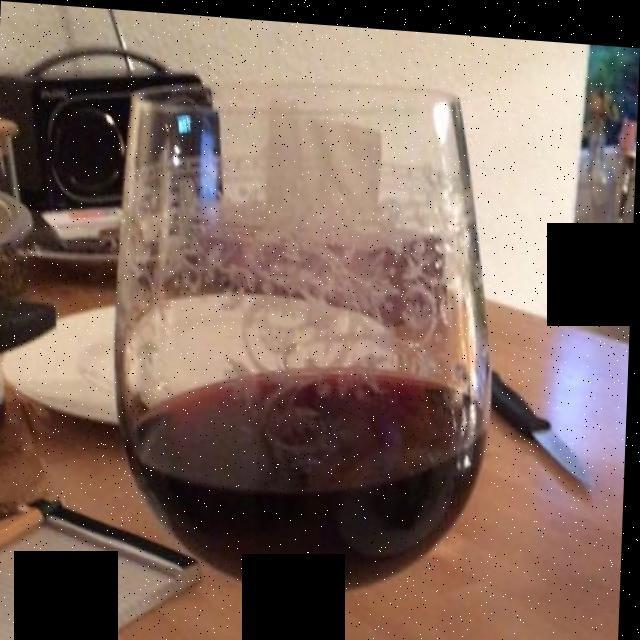wine: (131, 377, 480, 584)
